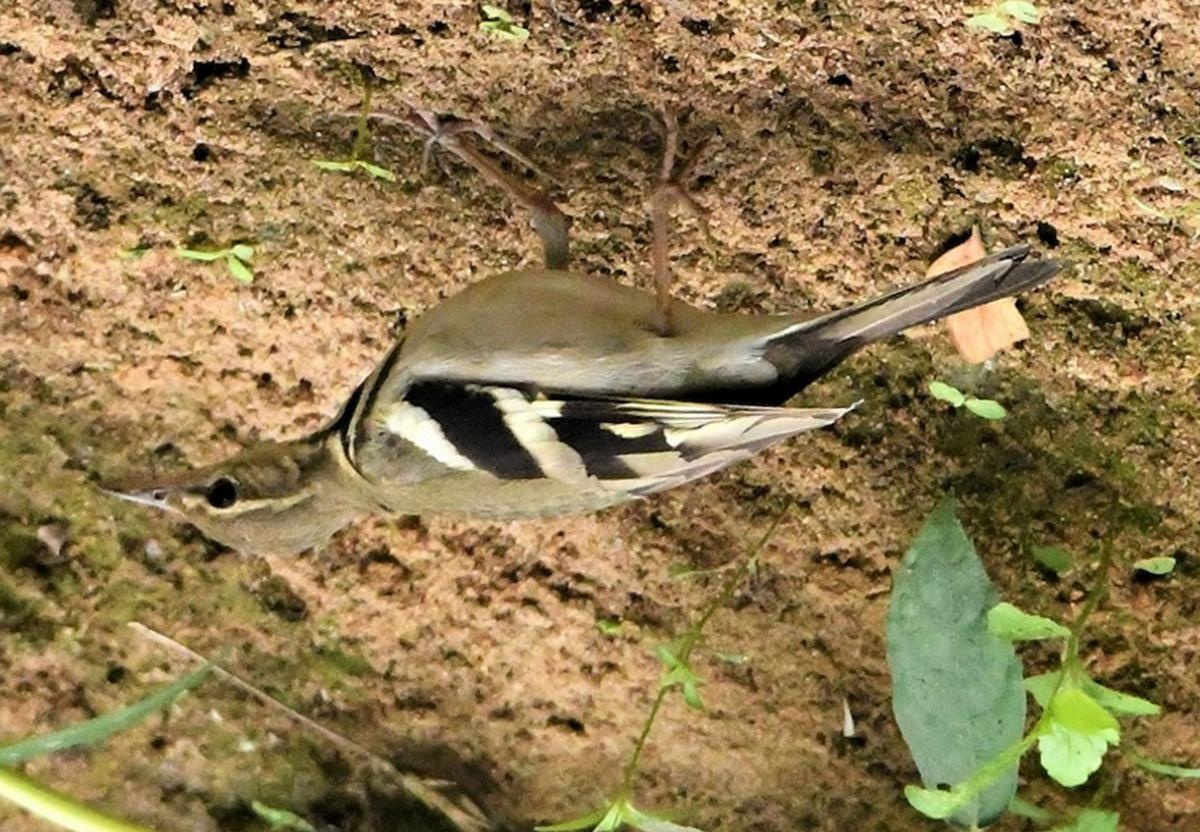wagtail: (127, 211, 1045, 566)
